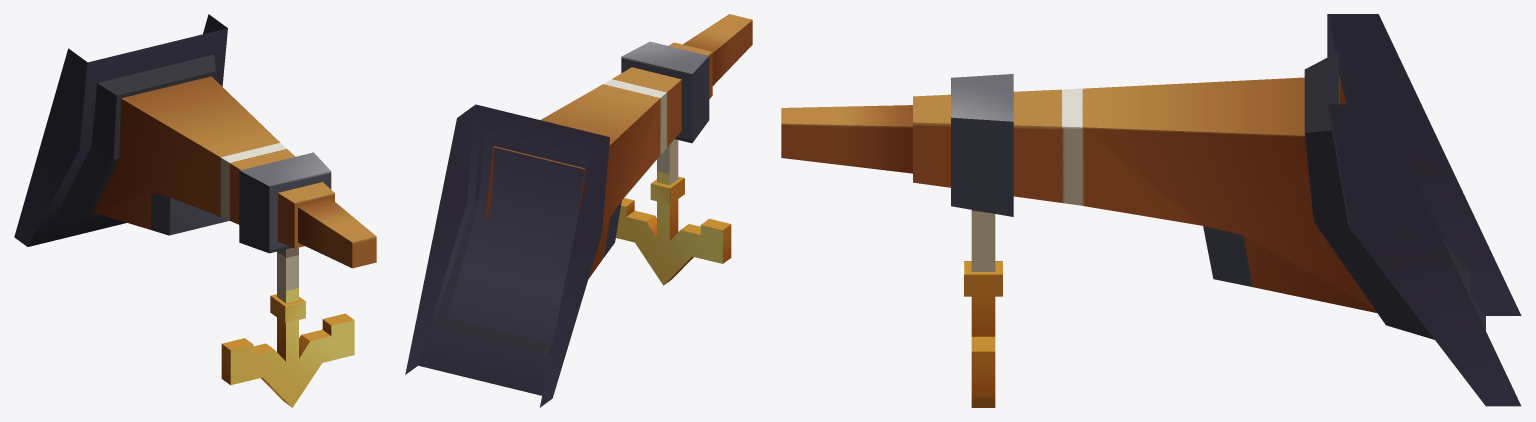
File: Pirate_Ship_We_BowSpines_001.FBX
3 views of the same model, side by side, from view 1: azimuth 30°, elevation 25°; view 2: azimuth 150°, elevation 25°; view 3: azimuth 270°, elevation 25° (orthographic). The views are drawn at different scales.
Parts seen in each view (by area): view 1: Pirate_Ship_We_BowSpines_001; view 2: Pirate_Ship_We_BowSpines_001; view 3: Pirate_Ship_We_BowSpines_001.
Boxes of the visible parts, x1,y1,x2,y2 form: Pirate_Ship_We_BowSpines_001: (14,14,376,407); Pirate_Ship_We_BowSpines_001: (405,14,752,407); Pirate_Ship_We_BowSpines_001: (781,14,1521,407).
Bounding box in the file's own units: 4.89 × 8.79 × 16.91.
